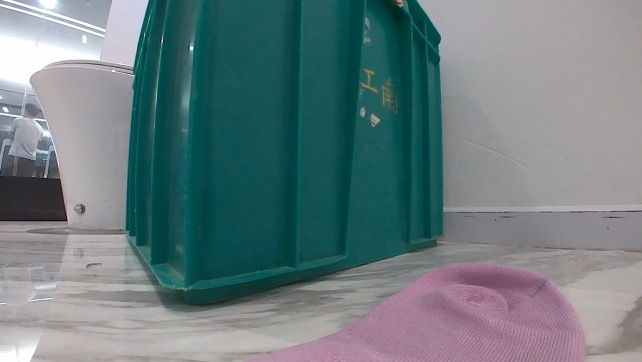socks: (251, 258, 589, 360)
toilet: (24, 53, 138, 235)
